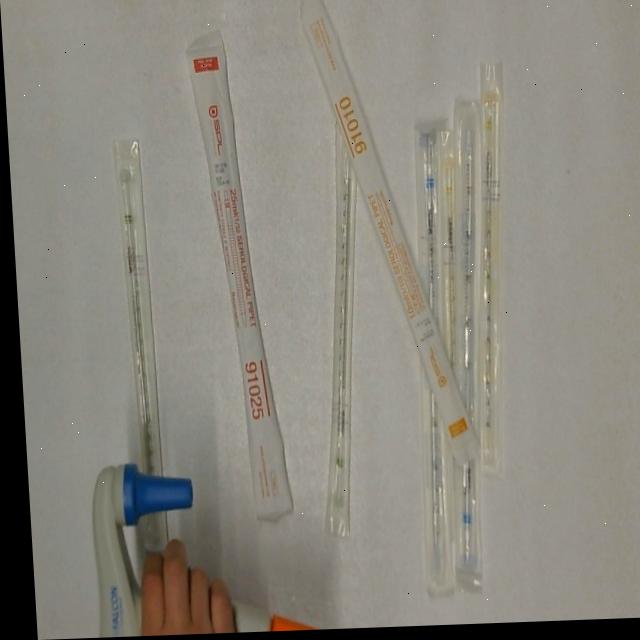Pipette Controller: (72, 456, 351, 639)
Serelogical Pipet 1 mL - Sealed: (453, 64, 526, 480), (423, 131, 473, 384)
Serelogical Pipet 10 mL - Sealed: (280, 0, 480, 477)
Serelogical Pipet 2 mL - Sealed: (293, 116, 428, 540), (112, 137, 165, 557)
Serelogical Pipet 25 mL - Sealed: (184, 28, 290, 528)
Serelogical Pipet 5 mL - Sealed: (426, 100, 503, 580), (395, 116, 463, 599)
